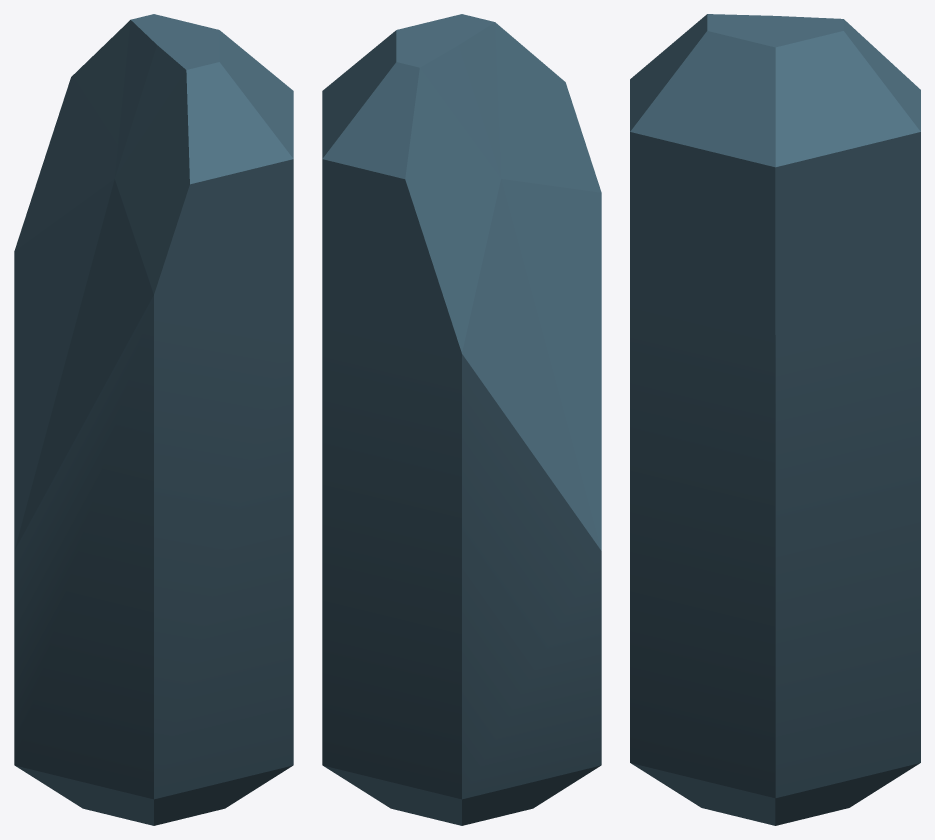
Rendered from geology-crystals-calcitecrystal_v7.fbx.
The picture shows the model from 3 angles, left to right: view 1: azimuth 30°, elevation 25°; view 2: azimuth 150°, elevation 25°; view 3: azimuth 270°, elevation 25°; orthographic projection. The views are drawn at different scales.
Parts seen in each view (by area): view 1: CalciteCrystal_v7; view 2: CalciteCrystal_v7; view 3: CalciteCrystal_v7.
Boxes of the visible parts, x1=… form: CalciteCrystal_v7: x1=14, y1=14, x2=293, y2=825; CalciteCrystal_v7: x1=322, y1=14, x2=601, y2=825; CalciteCrystal_v7: x1=630, y1=14, x2=920, y2=825.
Size of the model in its own units: 1.39 by 3.55 by 1.21.
